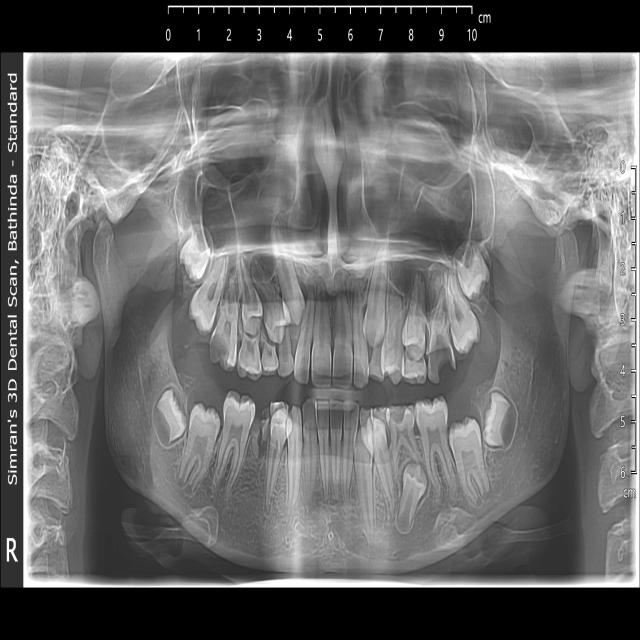Caries: (427, 264, 456, 386), (209, 266, 242, 369)
Root Piece: (249, 422, 266, 462)
